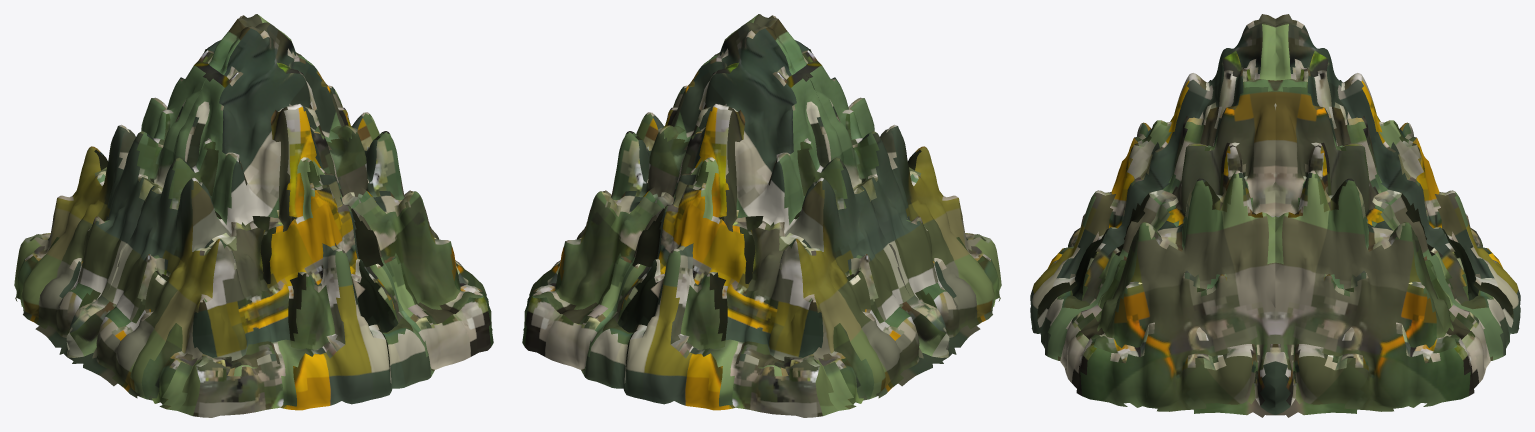
The model's file is DeathMount.fbx.
The picture shows the model from 3 angles, left to right: view 1: azimuth 30°, elevation 25°; view 2: azimuth 150°, elevation 25°; view 3: azimuth 270°, elevation 25°; orthographic projection. The views are drawn at different scales.
Parts seen in each view (by area): view 1: Mount; view 2: Mount; view 3: Mount.
Part boxes in pixels (x1=…): Mount: x1=14, y1=14, x2=493, y2=417; Mount: x1=522, y1=14, x2=1001, y2=417; Mount: x1=1030, y1=14, x2=1520, y2=417.
Bounding box in the file's own units: 107 × 80.25 × 117.
